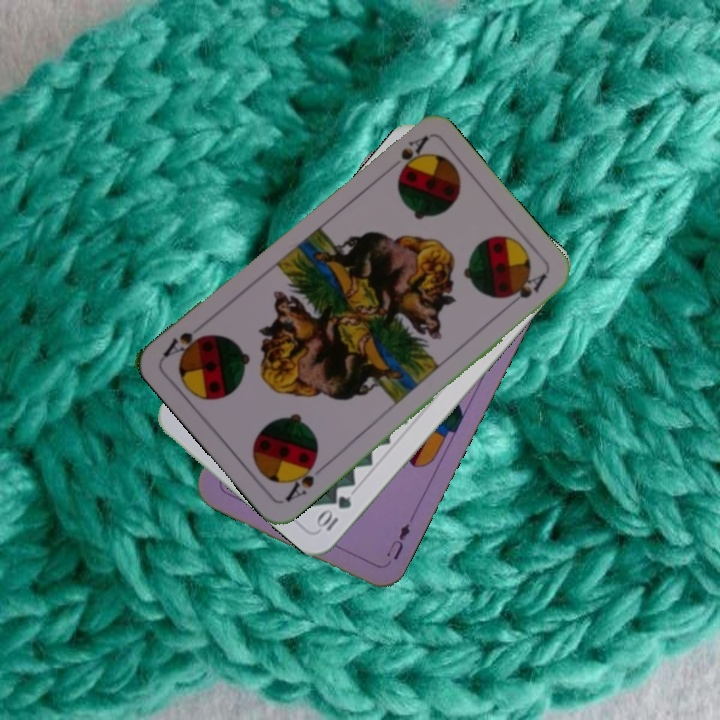EU: (382, 519, 413, 563)
G10: (313, 491, 355, 534)
SA: (281, 453, 329, 505), (395, 131, 431, 173)
